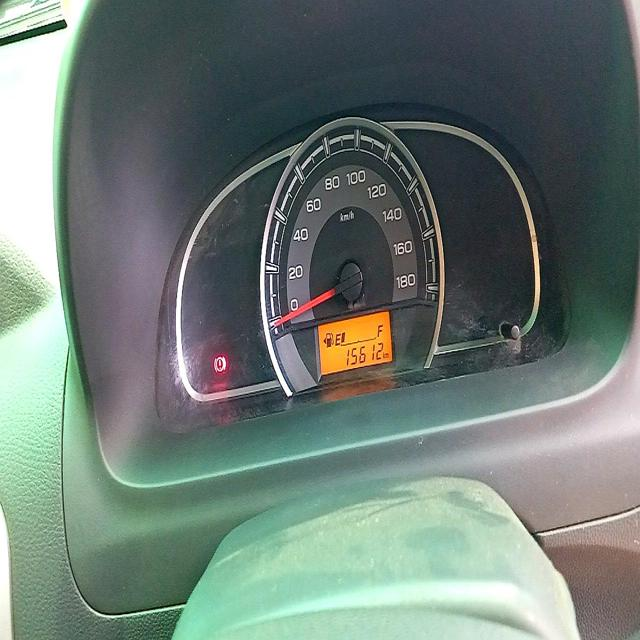odometer: (344, 339, 383, 367)
